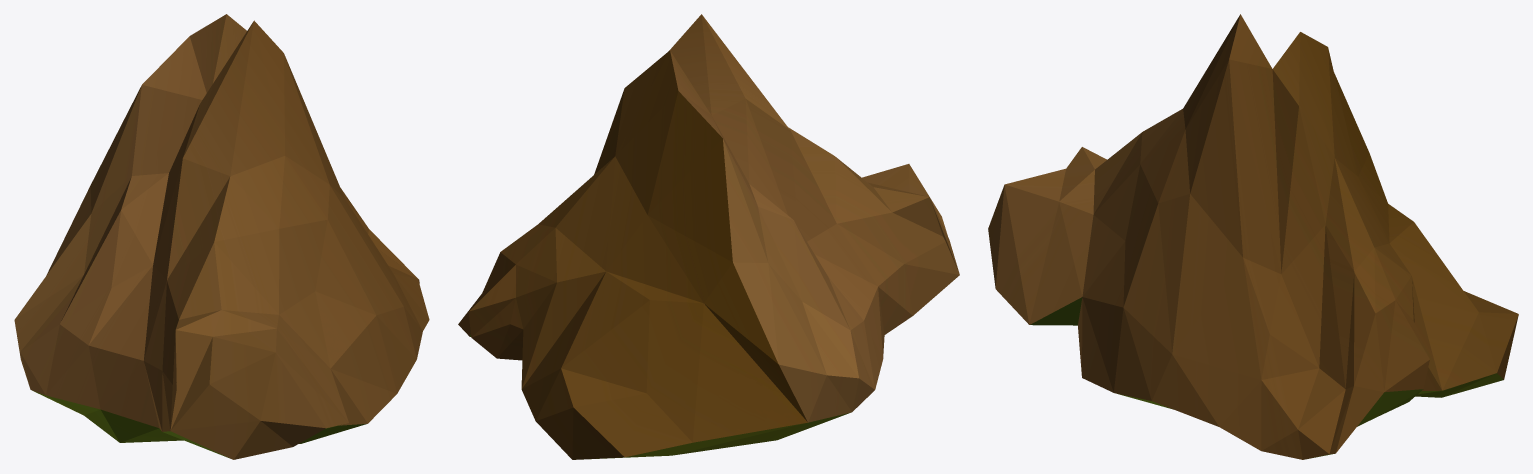
The model's file is 4seasons_montain2.FBX.
3 views of the same model, side by side, from view 1: azimuth 30°, elevation 25°; view 2: azimuth 150°, elevation 25°; view 3: azimuth 270°, elevation 25° (orthographic). The views are drawn at different scales.
Visible parts, largest first — view 1: 4seasons_mountain2; view 2: 4seasons_mountain2; view 3: 4seasons_mountain2.
Part boxes in pixels (box(x1,y1,x2,y2)): 4seasons_mountain2: box(14, 14, 429, 459); 4seasons_mountain2: box(458, 14, 959, 459); 4seasons_mountain2: box(988, 14, 1518, 459).
Bounding box in the file's own units: 8468 × 7579 × 9629.
Materials: 2 (2 with a texture image).
